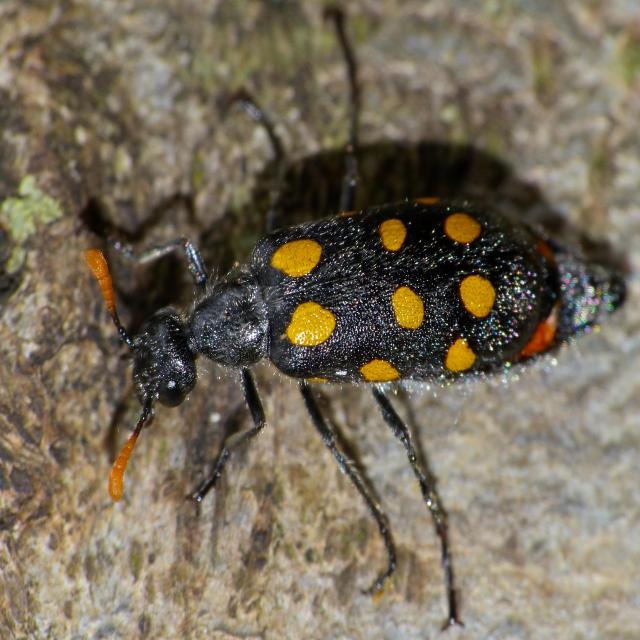BlisterBeetle-Adult-: (44, 123, 634, 568)
